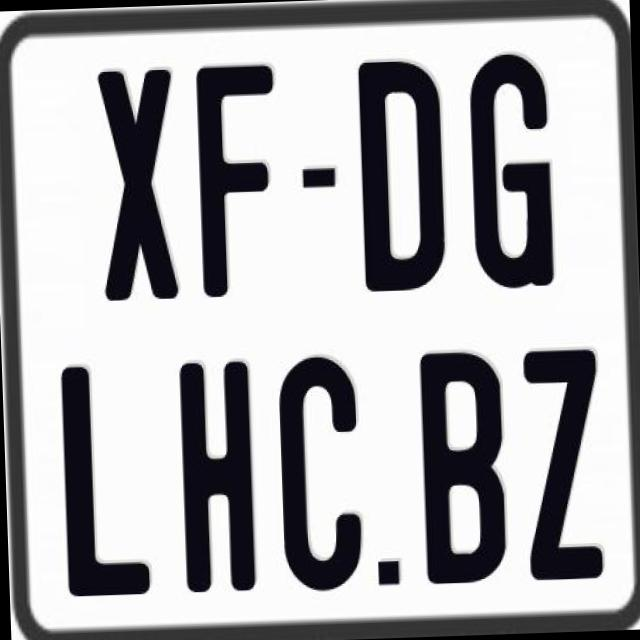B: (416, 348, 510, 592)
C: (278, 354, 366, 590)
D: (354, 56, 448, 292)
F: (193, 58, 284, 296)
G: (464, 48, 556, 284)
H: (178, 356, 254, 592)
L: (59, 364, 155, 602)
X: (96, 66, 176, 305)
Z: (518, 344, 600, 577)
